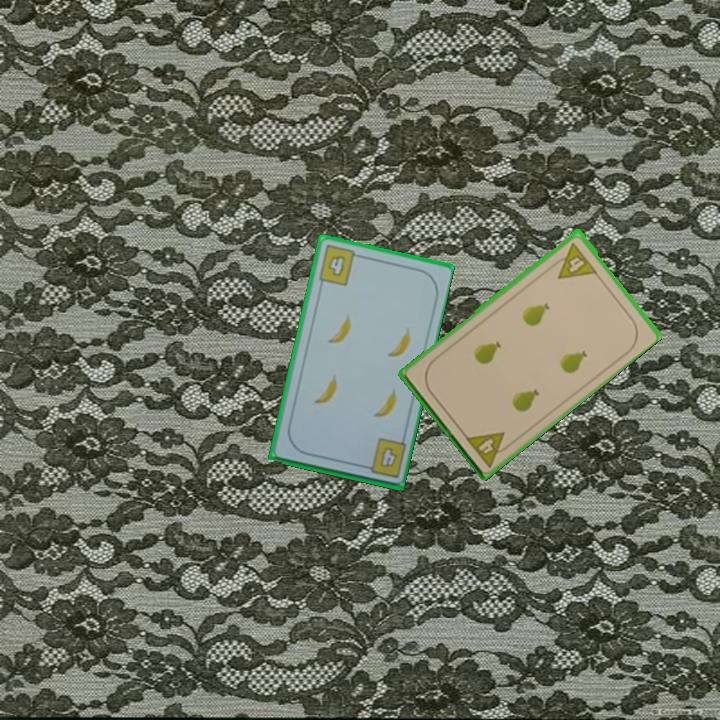4b: (315, 241, 364, 289), (358, 435, 409, 481)
4p: (547, 238, 599, 282), (462, 428, 516, 470)
